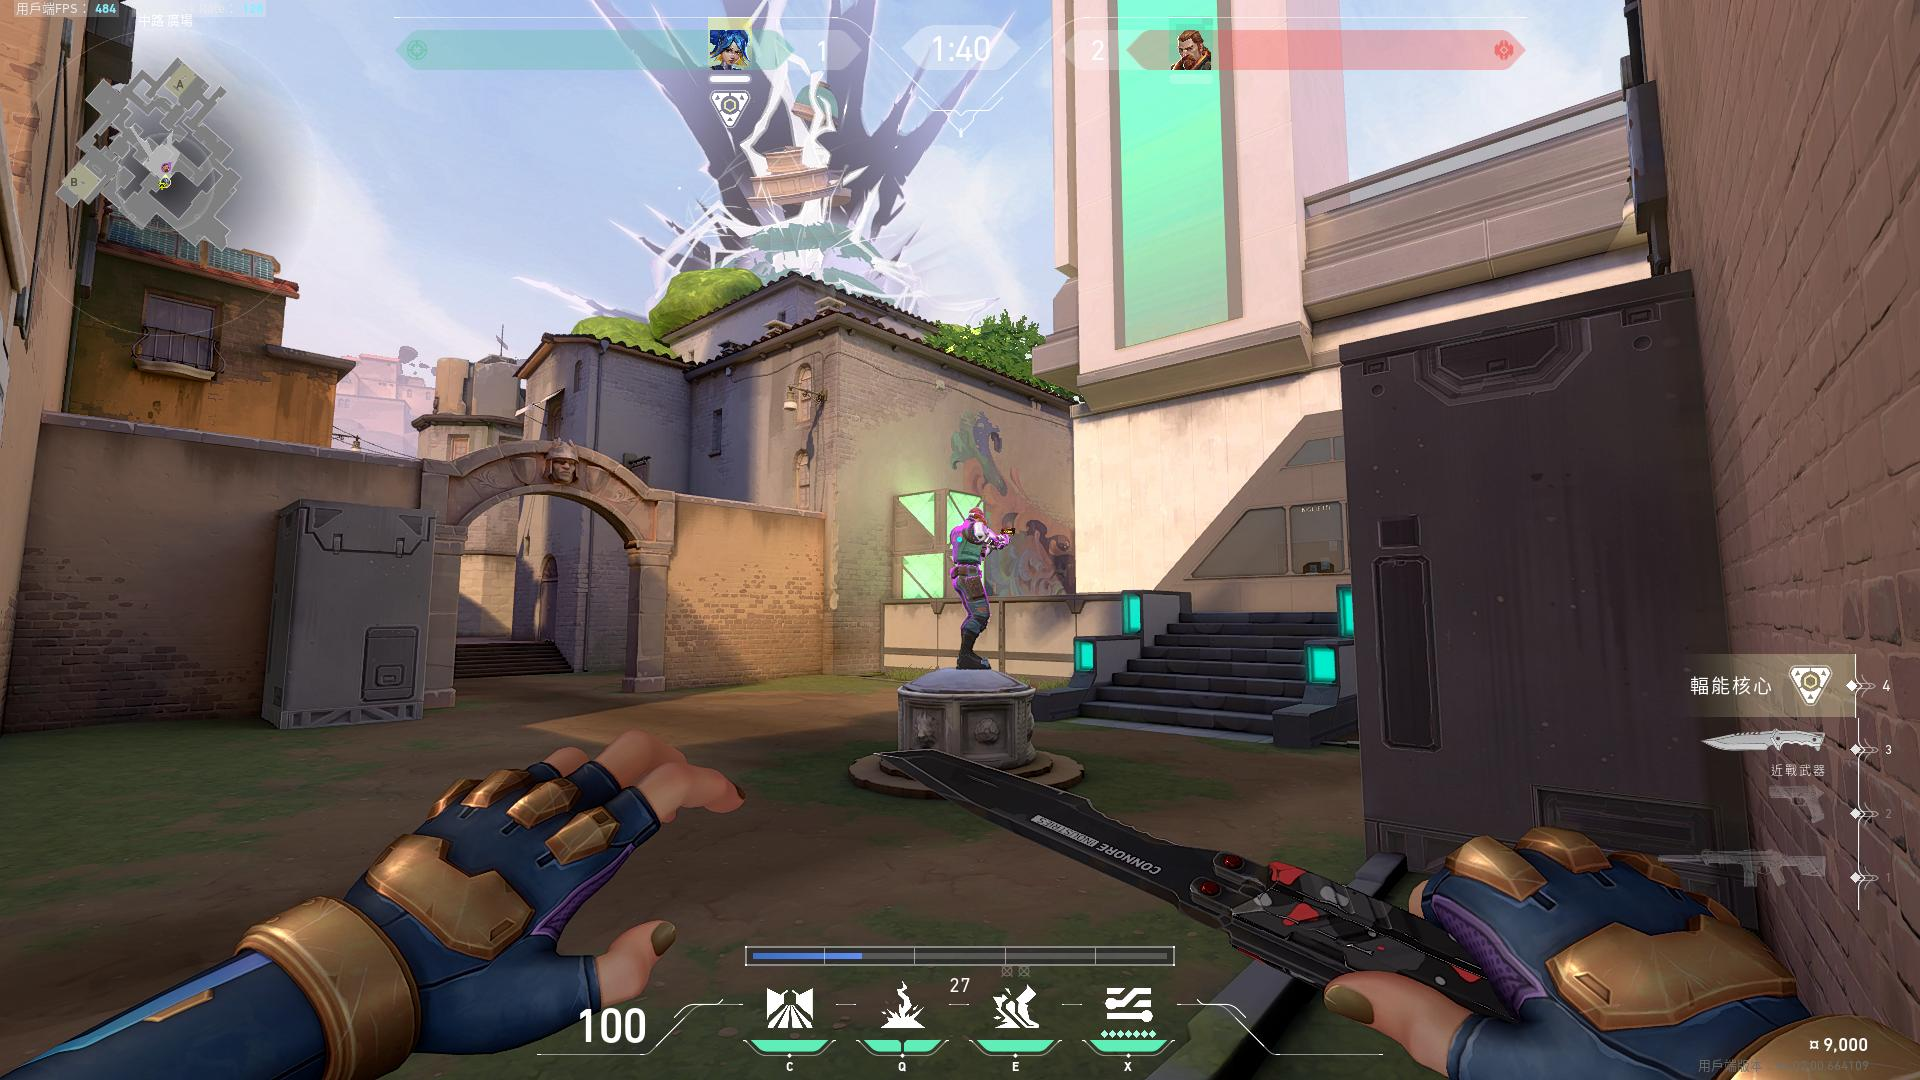enemyBody: (961, 524, 977, 556)
enemyHead: (972, 512, 980, 520)
